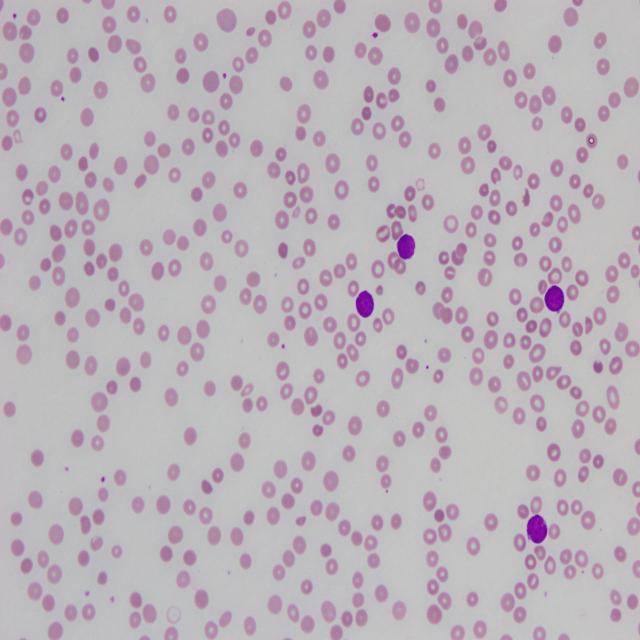cell: (526, 515, 548, 543), (545, 285, 564, 312), (356, 290, 374, 318), (398, 235, 415, 259)
